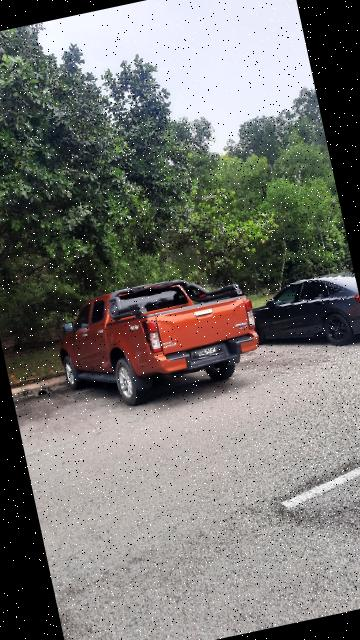License_Plate: (190, 343, 228, 363)
car: (49, 264, 270, 420), (254, 267, 360, 362)
